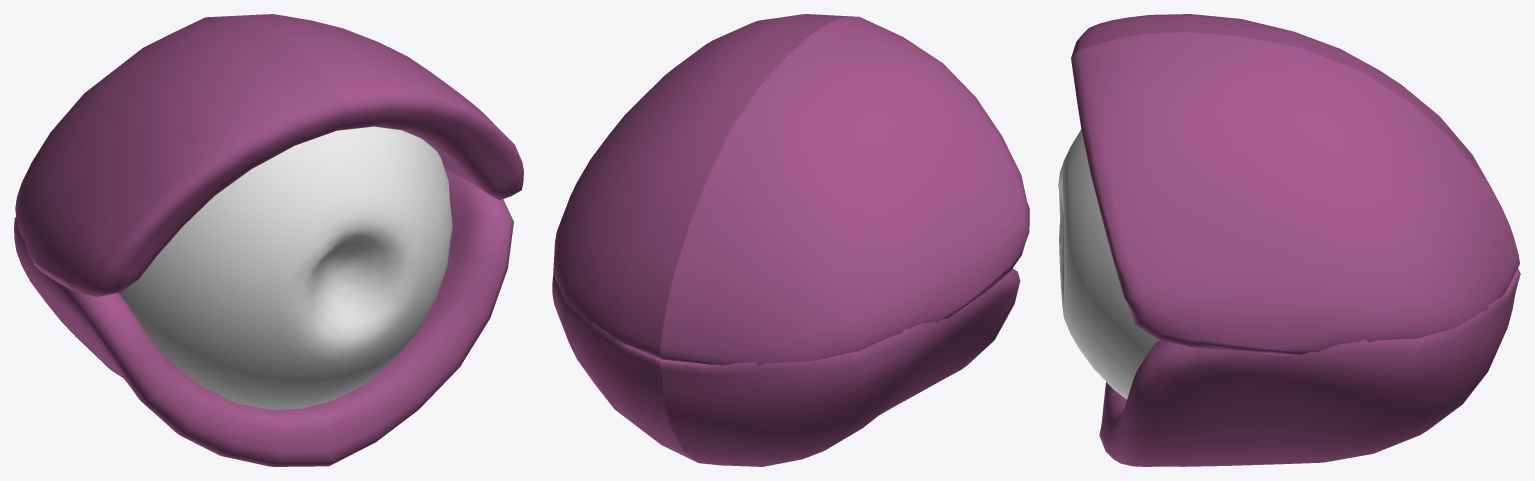
The model's file is EyeLow.fbx.
3 views of the same model, side by side, from view 1: azimuth 30°, elevation 25°; view 2: azimuth 150°, elevation 25°; view 3: azimuth 270°, elevation 25° (orthographic). The views are drawn at different scales.
Visible parts, largest first — view 1: eyesballLow, eyeLidLow:Group49972, eyeLidLow:Group49210, eyeLidLow:Group49974, eyeLidLow:Group49973; view 2: eyeLidLow:Group49972, eyeLidLow:Group49973, eyeLidLow:Group49210, eyeLidLow:Group49974; view 3: eyeLidLow:Group49973, eyeLidLow:Group49974, eyesballLow, eyeLidLow:Group49972.
Part boxes in pixels (left/top/right/bottom): eyesballLow: left=119, top=126, right=452, bottom=409; eyeLidLow:Group49972: left=15, top=16, right=345, bottom=297; eyeLidLow:Group49210: left=14, top=216, right=332, bottom=466; eyeLidLow:Group49974: left=314, top=170, right=513, bottom=465; eyeLidLow:Group49973: left=208, top=14, right=523, bottom=200; eyeLidLow:Group49972: left=660, top=16, right=1029, bottom=365; eyeLidLow:Group49973: left=553, top=14, right=853, bottom=359; eyeLidLow:Group49210: left=660, top=268, right=1020, bottom=466; eyeLidLow:Group49974: left=552, top=272, right=697, bottom=462; eyeLidLow:Group49973: left=1071, top=32, right=1519, bottom=356; eyeLidLow:Group49974: left=1099, top=271, right=1520, bottom=466; eyesballLow: left=1058, top=129, right=1158, bottom=399; eyeLidLow:Group49972: left=1071, top=14, right=1499, bottom=203.
Bounding box in the file's own units: 3.81 × 3.44 × 3.41.
